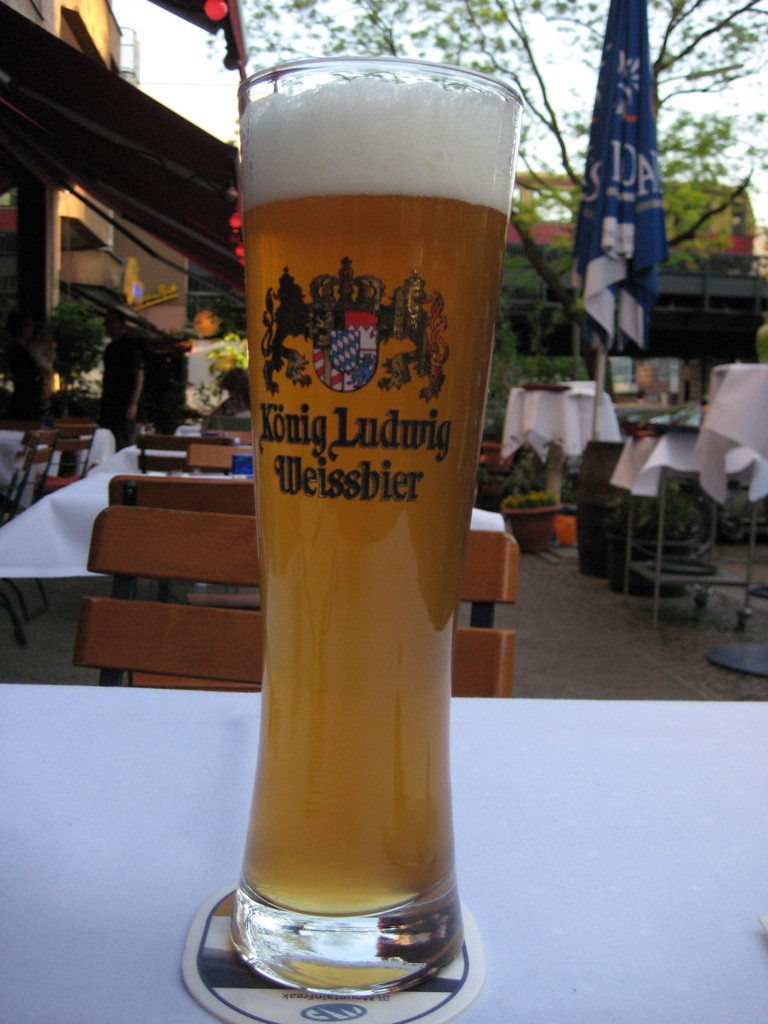Beer: (225, 75, 517, 910)
